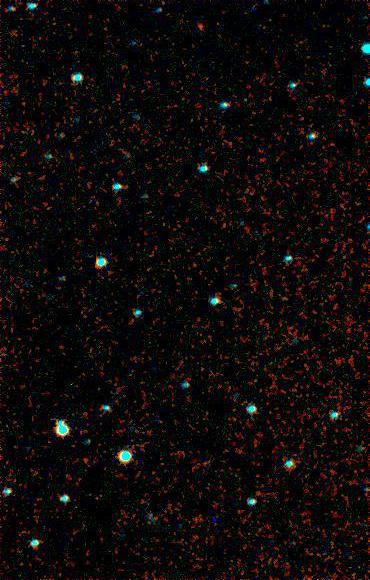star: (188, 11, 218, 41)
